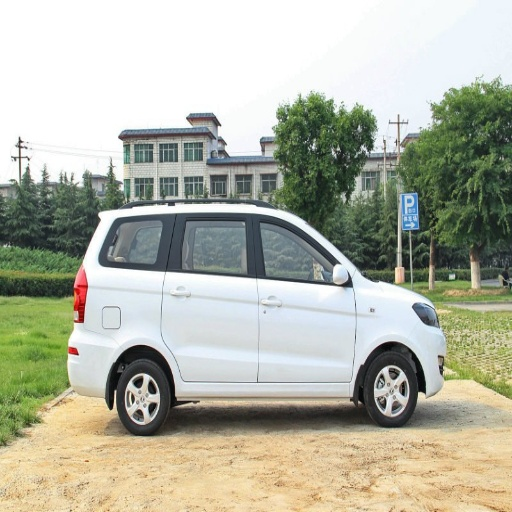back_bumper: (67, 323, 109, 392)
back_right_door: (146, 213, 257, 384)
front_right_door: (255, 213, 356, 382)
trunk: (93, 290, 129, 368)
